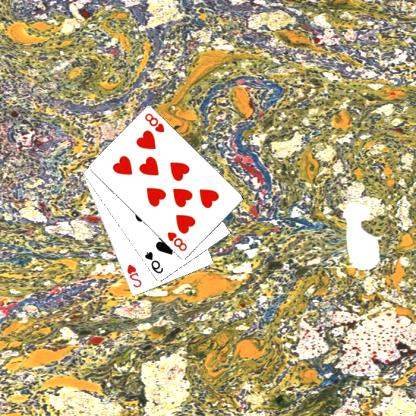2H: (126, 261, 144, 289)
6S: (144, 249, 166, 275)
8H: (144, 110, 168, 134), (166, 230, 190, 252)
